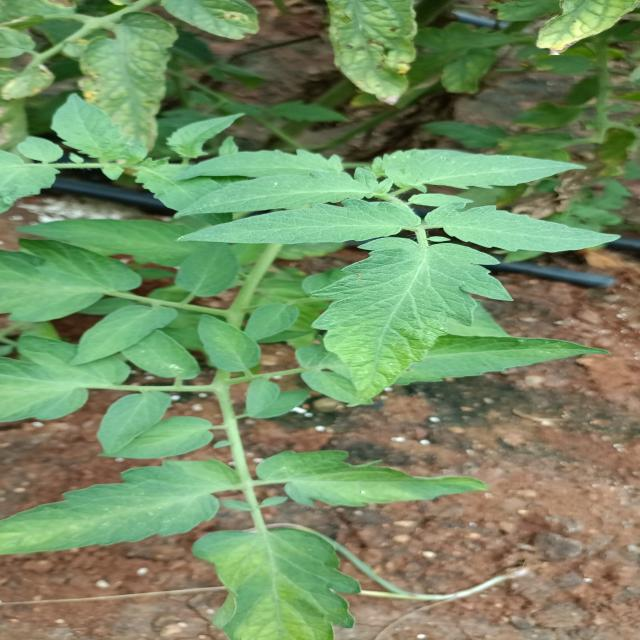Healthy Leaf: (304, 239, 520, 406), (4, 454, 235, 559), (194, 531, 371, 640), (251, 446, 484, 511), (164, 199, 406, 249), (412, 204, 612, 253), (361, 148, 587, 191), (63, 301, 195, 364)
